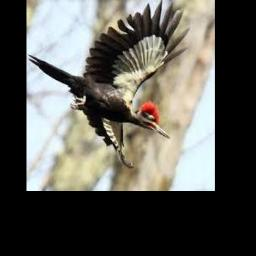Woodpecker: (28, 0, 190, 167)
